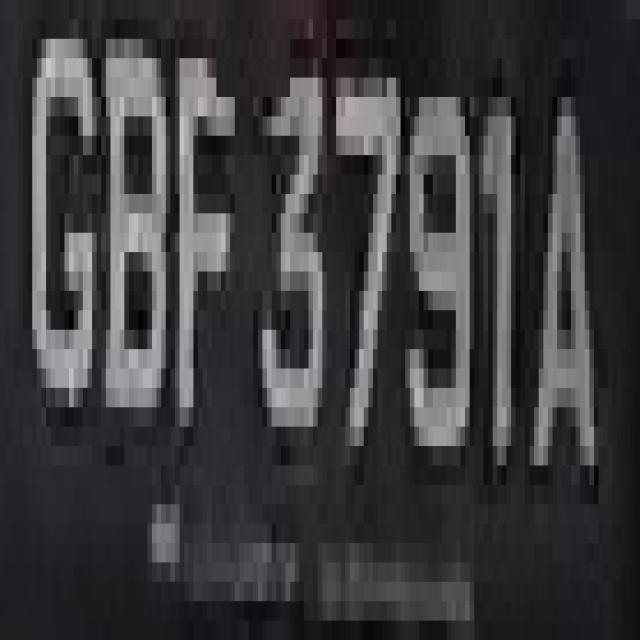1: (488, 58, 520, 524)
3: (258, 39, 318, 504)
7: (331, 19, 396, 504)
9: (396, 78, 470, 524)
A: (525, 78, 598, 562)
B: (92, 19, 170, 466)
F: (166, 39, 239, 465)
G: (28, 19, 101, 446)
